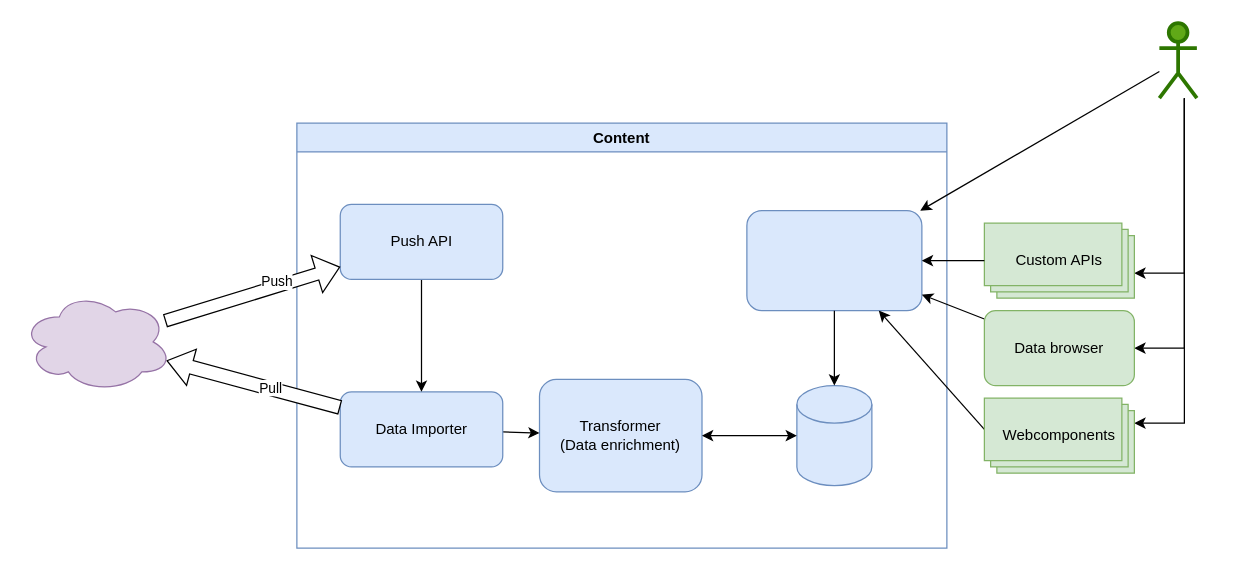
The diagram is 1250 pixels wide and 570 high, and some of its shapes have lost their labels. The centre of each missing label's shape, as x and y in pixels:
"Data consumer" goes at pixel 1177 60.
"Data providers" goes at pixel 96 341.
"Outbound API (Tourism) {...}" goes at pixel 834 260.
"Postgres DB" goes at pixel 834 435.
